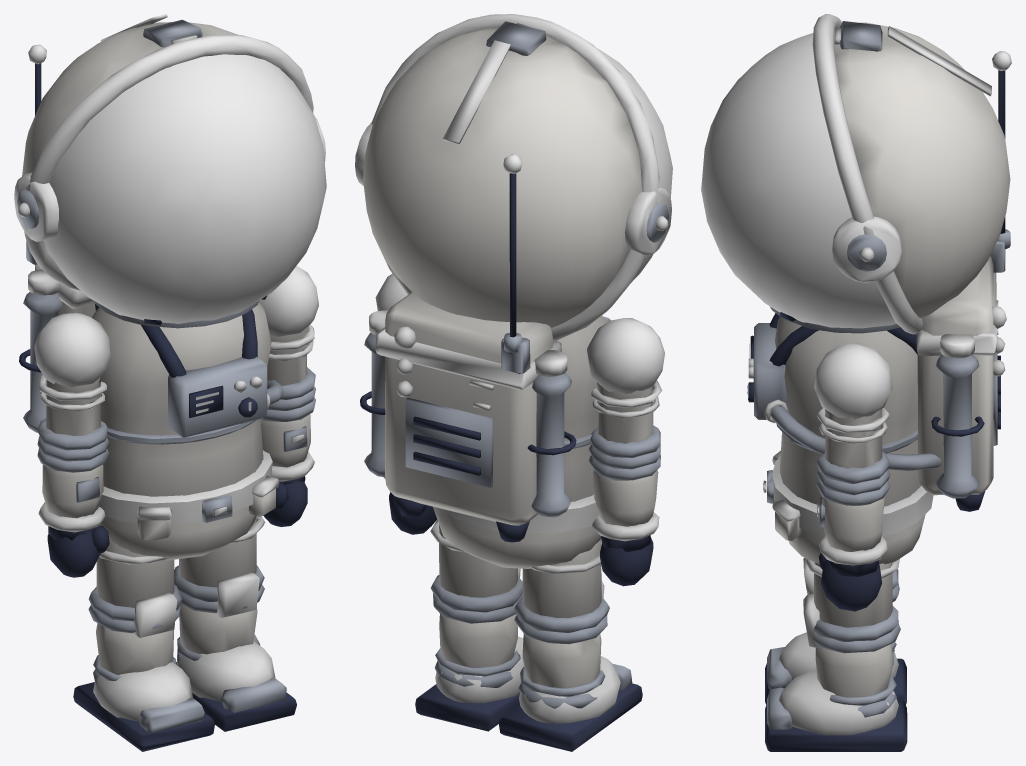
The model's file is astronaut_low.glb.
3 views of the same model, side by side, from view 1: azimuth 30°, elevation 25°; view 2: azimuth 150°, elevation 25°; view 3: azimuth 270°, elevation 25° (orthographic).
Parts seen in each view (by area): view 1: head, torso, shinL, armL, shinR, legL, armR, forearmL, legR, forearmR; view 2: head, torso, shinL, armL, shinR, legL, forearmL, legR, forearmR, armR; view 3: head, torso, shinR, armR, forearmR, legR, shinL.
Boxes of the visible parts, x1,y1,x2,y2 form: head: [14, 14, 326, 328]; torso: [19, 44, 283, 560]; shinL: [73, 623, 214, 751]; armL: [34, 313, 110, 472]; shinR: [176, 603, 296, 731]; legL: [88, 540, 182, 638]; armR: [259, 266, 318, 421]; forearmL: [38, 464, 109, 577]; legR: [174, 516, 265, 618]; forearmR: [261, 414, 314, 526]; head: [355, 14, 672, 339]; torso: [360, 153, 610, 568]; shinL: [499, 633, 642, 751]; armL: [587, 318, 664, 480]; shinR: [415, 614, 524, 731]; legL: [514, 539, 609, 644]; forearmL: [592, 470, 659, 586]; legR: [430, 520, 522, 623]; forearmR: [383, 477, 437, 534]; armR: [375, 273, 407, 310]; head: [701, 14, 1010, 334]; torso: [747, 51, 1011, 564]; shinR: [765, 644, 907, 751]; armR: [814, 343, 892, 505]; forearmR: [817, 496, 887, 611]; legR: [803, 558, 900, 653]; shinL: [765, 632, 906, 704].
Size of the model in its own units: 0.918 by 1.97 by 0.8058.
